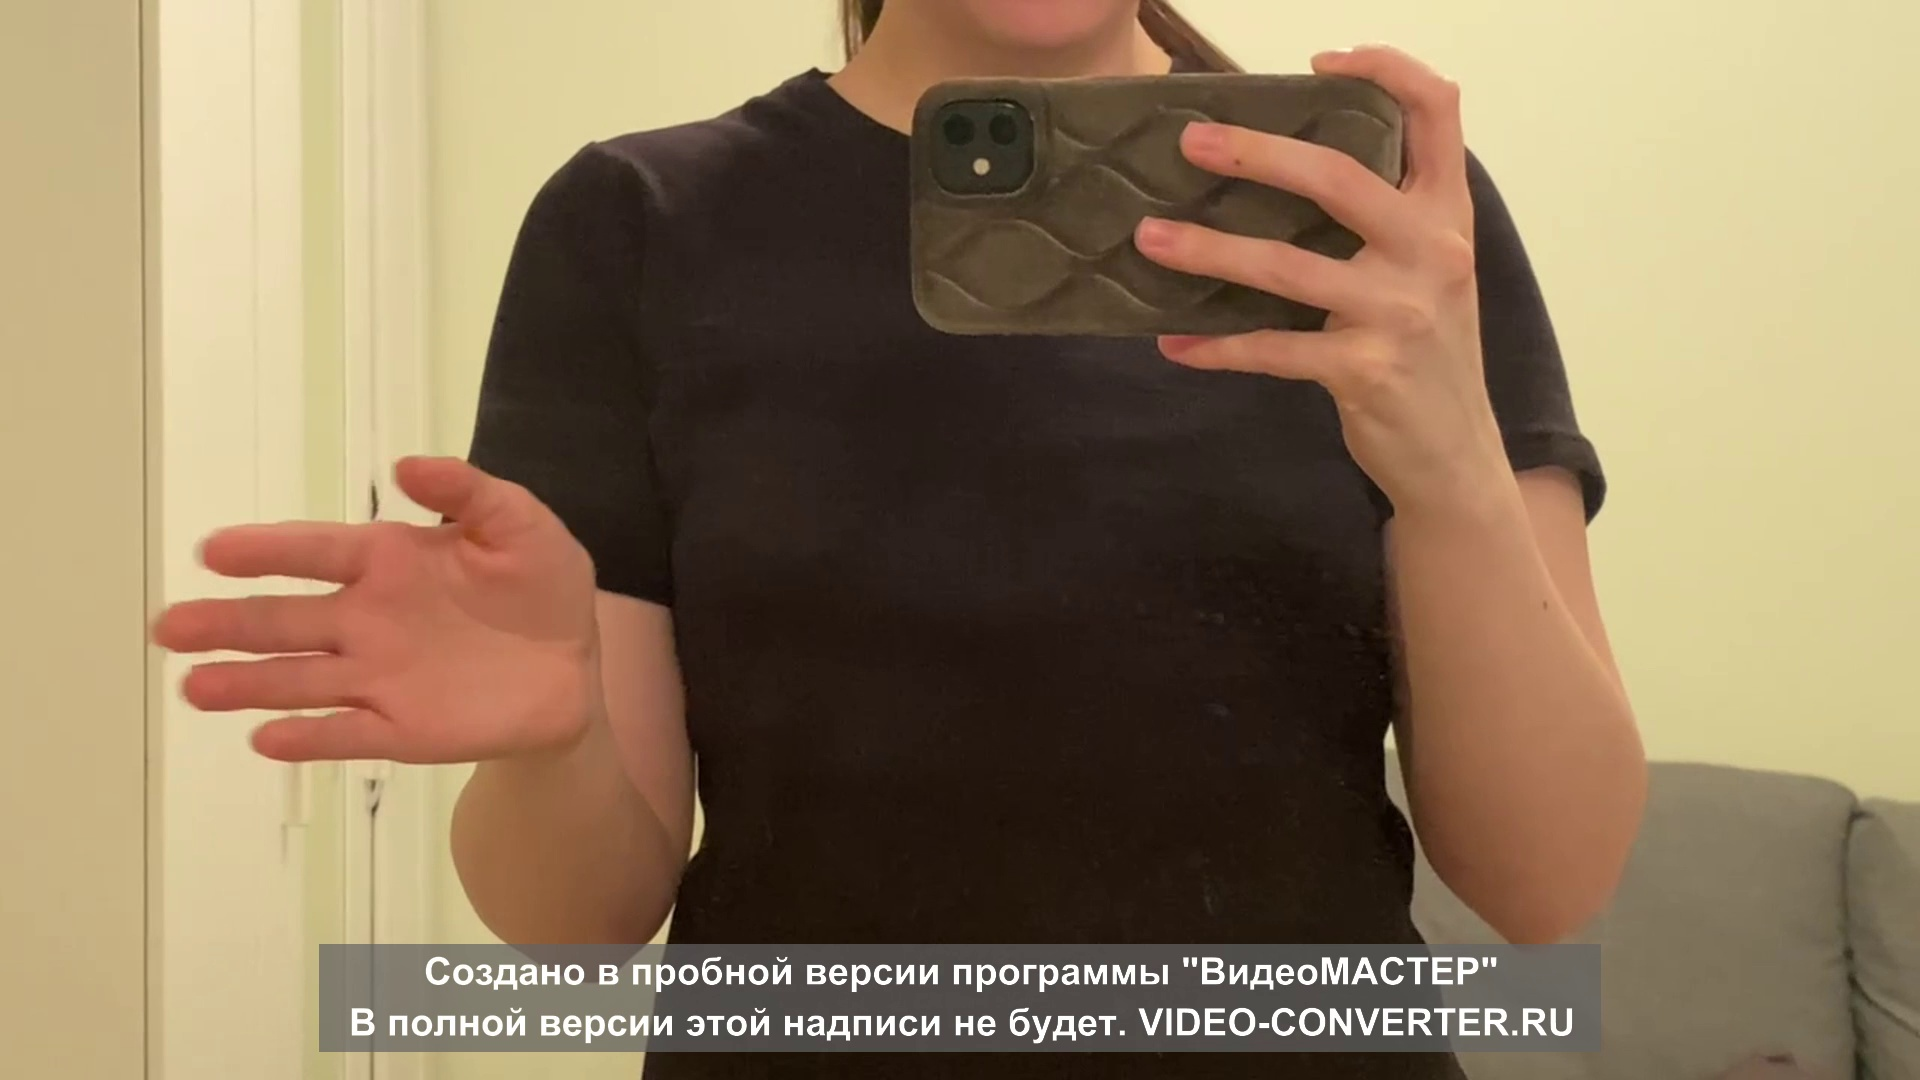Ладонь: (146, 456, 597, 760)
